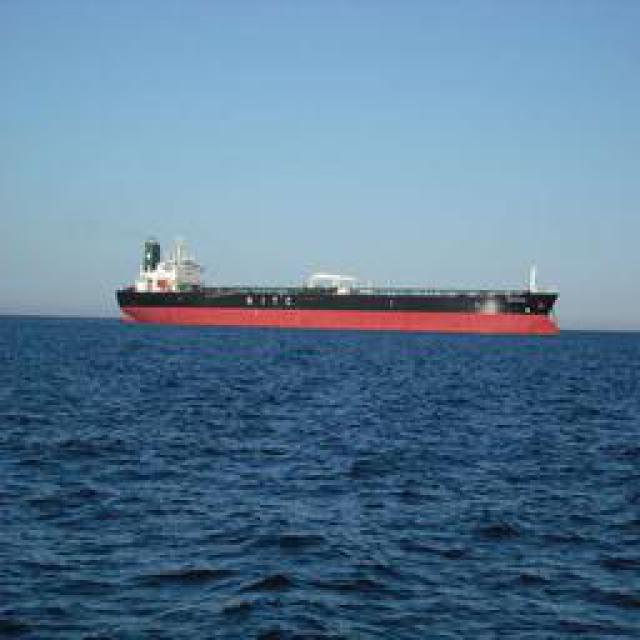Ship: (119, 241, 564, 336)
